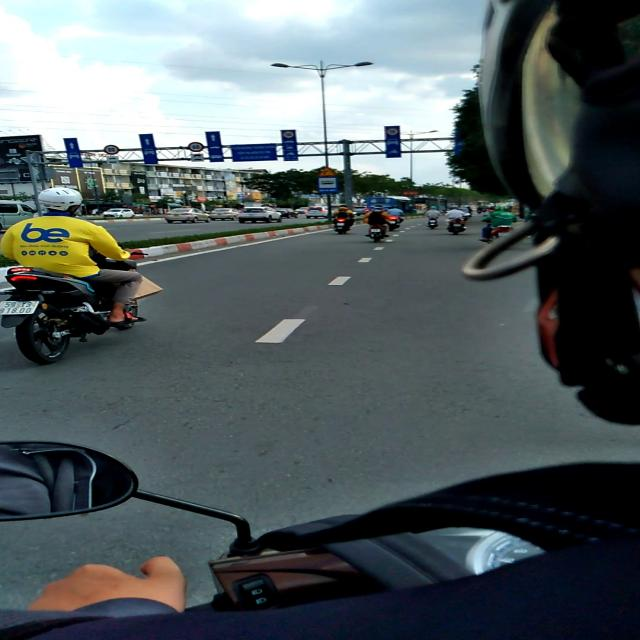P.127: (103, 144, 120, 154), (188, 142, 205, 152), (385, 127, 399, 136), (282, 130, 295, 138)
R.434: (317, 178, 338, 194)
W.201b: (317, 166, 337, 176)
